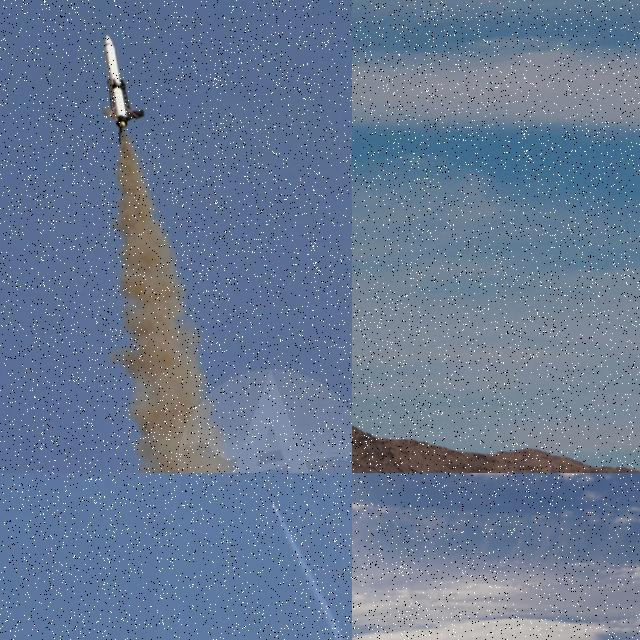Rocket: (93, 33, 147, 145), (271, 501, 275, 506)
